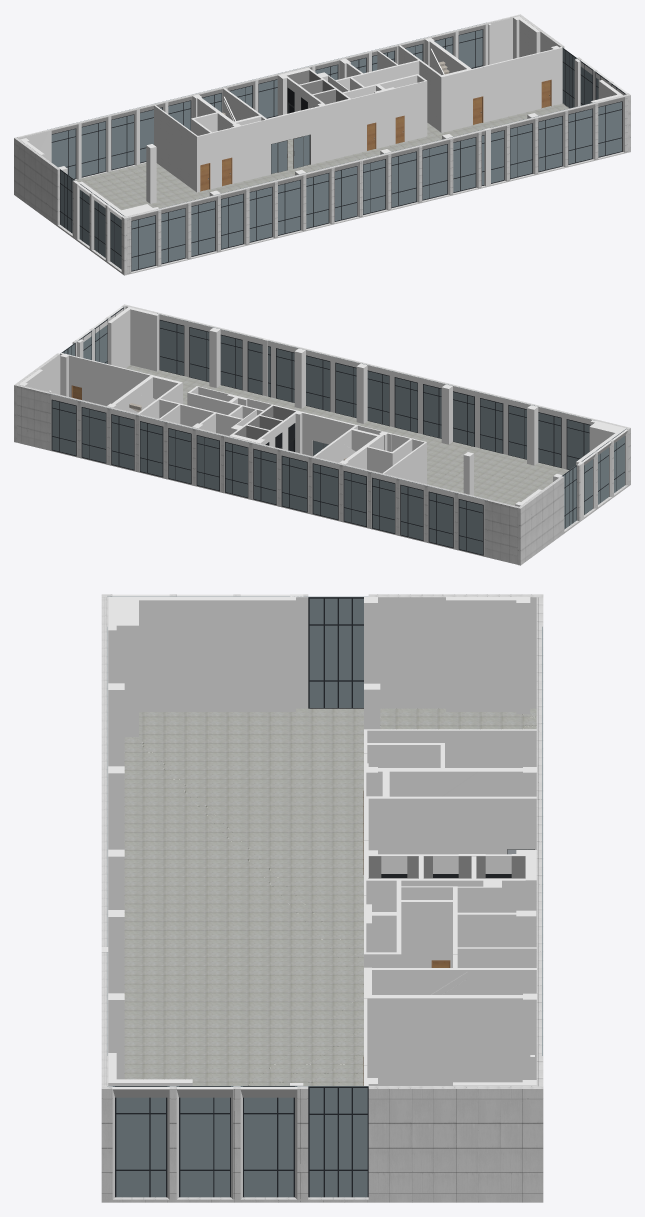
3 views of the same model, one above another, from view 1: azimuth 30°, elevation 25°; view 2: azimuth 150°, elevation 25°; view 3: azimuth 270°, elevation 25° (orthographic). The views are drawn at different scales.
Visible parts, largest first — view 1: Layer:0, Box738, Box736, Rectangle356, Box582, Line13731, Box689, Box739, 地形_M_玻璃_004, 对象002, Box737, Rectangle12671 (+6 smaller); view 2: Box736, Box738, Layer:0, Box582, Rectangle12671, Box689, Line13731, Box739, 对象004, Box690, Layer:智能化-监控, Rectangle356 (+4 smaller); view 3: Box582, Layer:0, Box688, Box737, 对象003, Line13731, Layer:智能化-监控, Box739, Rectangle12671, Rectangle356, Line13823, Box695 (+7 smaller).
Part boxes in pixels (x1,y1,x2,y2): Layer:0: (20,16,622,239); Box738: (157,102,594,263); Box736: (47,22,486,178); Rectangle356: (126,94,627,274); Box582: (76,103,568,210); Line13731: (299,69,427,164); Box689: (14,137,127,275); Box739: (60,169,124,269); 地形_M_玻璃_004: (131,102,621,270); 对象002: (19,18,512,179); Box737: (562,47,626,108); Rectangle12671: (17,15,518,179); Box736: (50,393,487,554); Box738: (157,313,594,469); Layer:0: (19,307,626,520); Box582: (126,365,568,505); Rectangle12671: (17,384,518,564); Box689: (517,427,630,565); Line13731: (187,386,312,456); Box739: (562,428,626,529); 对象004: (125,306,565,468); Box690: (20,387,47,449); Layer:智能化-监控: (159,402,256,435); Rectangle356: (126,305,627,428); Box582: (124,708,536,1085); Layer:0: (101,594,536,1085); Box688: (101,1086,543,1202); Box737: (107,1086,368,1197); 对象003: (297,597,536,708); Line13731: (364,840,525,967); Layer:智能化-监控: (401,886,536,967); Box739: (107,596,368,707); Rectangle12671: (536,597,543,1086); Rectangle356: (101,597,108,1085); Line13823: (367,743,444,767); Box695: (507,796,534,849).
Size of the model in its own units: 49.93 by 5.92 by 18.84.
Materials: 19 (5 with a texture image).
